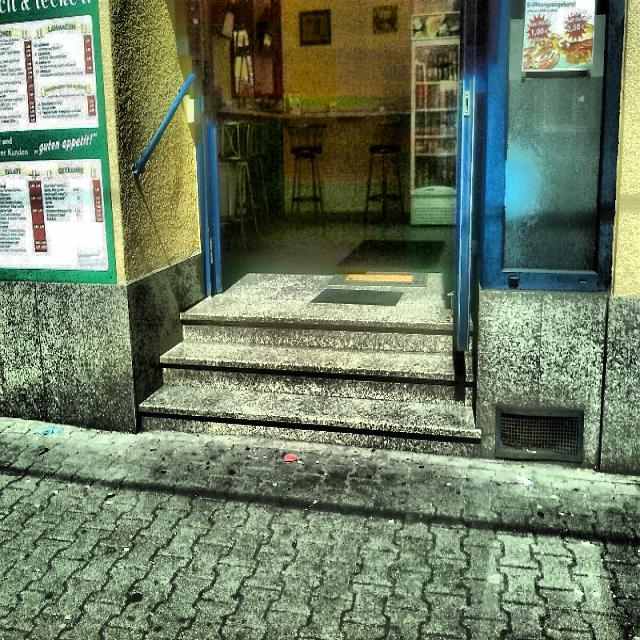escada: (130, 307, 478, 453)
